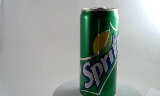sprite: (73, 6, 111, 95)
